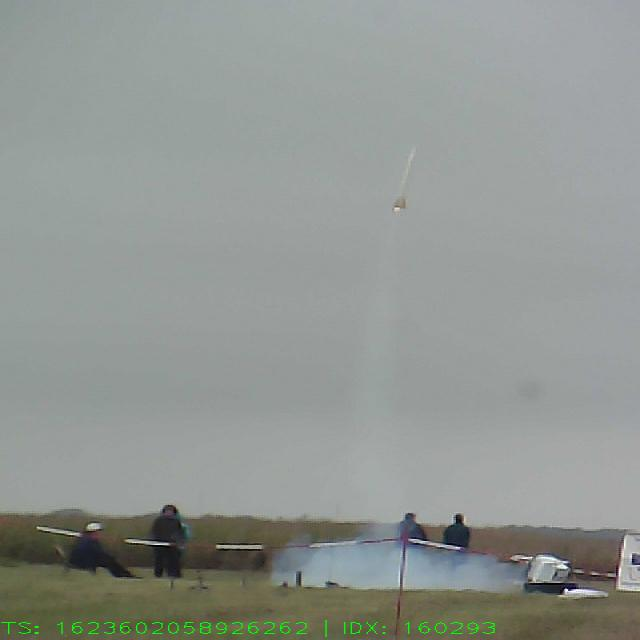Rocket: (393, 144, 416, 209)
